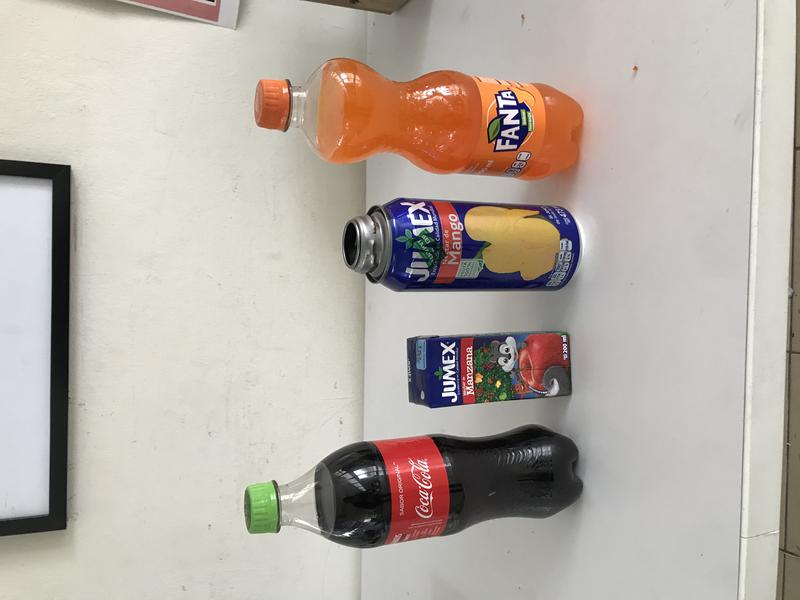coca_cola: (242, 424, 584, 548)
fanta: (253, 58, 585, 181)
jumex_botella: (343, 199, 584, 294)
jumex_cajita: (406, 332, 573, 408)
